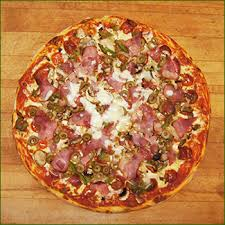pizza: (16, 18, 209, 205)
